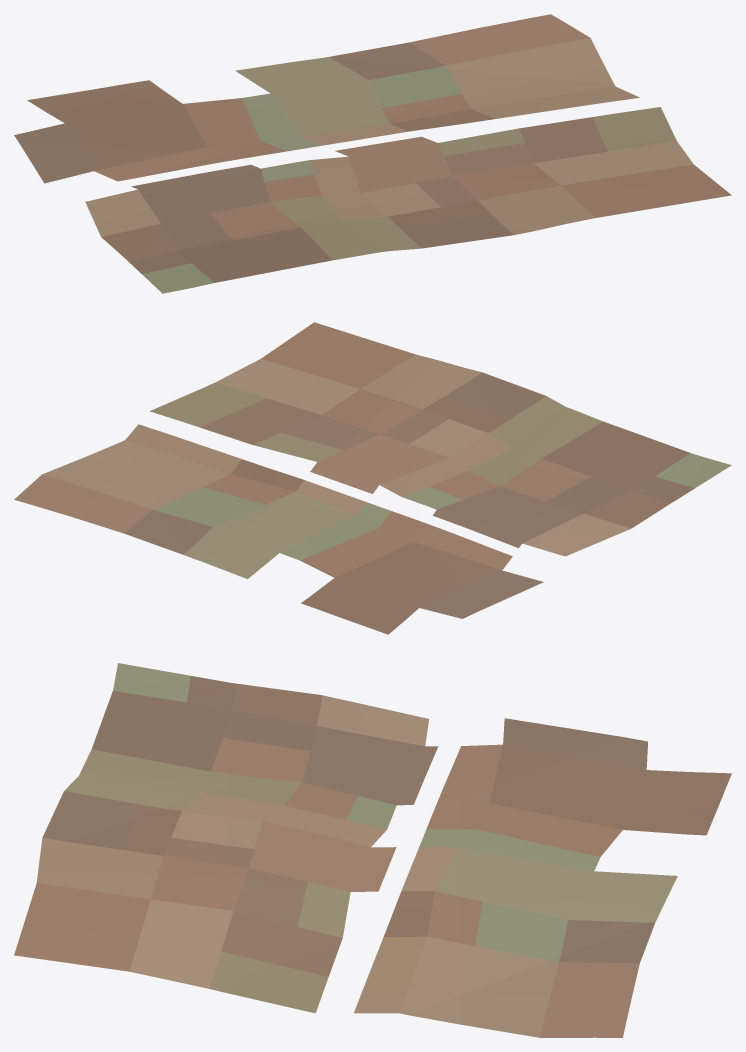
File: farm_-48_-37_soil.glb
The picture shows the model from 3 angles, top to bottom: view 1: azimuth 30°, elevation 25°; view 2: azimuth 150°, elevation 25°; view 3: azimuth 270°, elevation 25°; orthographic projection. The views are drawn at different scales.
Parts seen in each view (by area): view 1: geometry_0; view 2: geometry_0; view 3: geometry_0.
Part boxes in pixels (<box>): geometry_0: <box>14,14,731,293</box>; geometry_0: <box>14,322,731,634</box>; geometry_0: <box>14,663,731,1037</box>.
Bounding box in the file's own units: 286 × 16.51 × 252.
